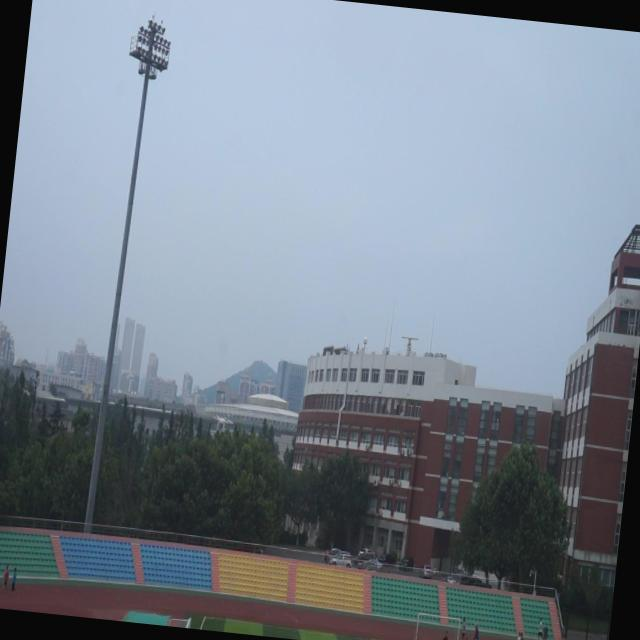drone: (209, 408, 233, 434)
